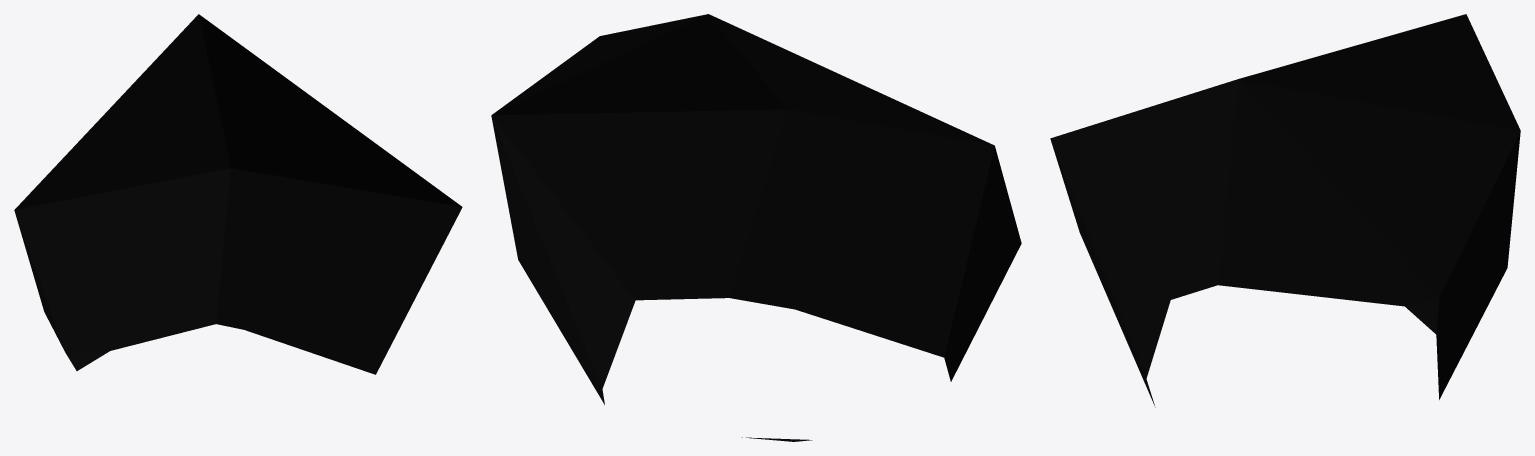
The picture shows the model from 3 angles, left to right: view 1: azimuth 30°, elevation 25°; view 2: azimuth 150°, elevation 25°; view 3: azimuth 270°, elevation 25°; orthographic projection. The views are drawn at different scales.
Size of the model in its own units: 0.2121 by 0.1465 by 0.1633.
Materials: 1 (1 with a texture image).
